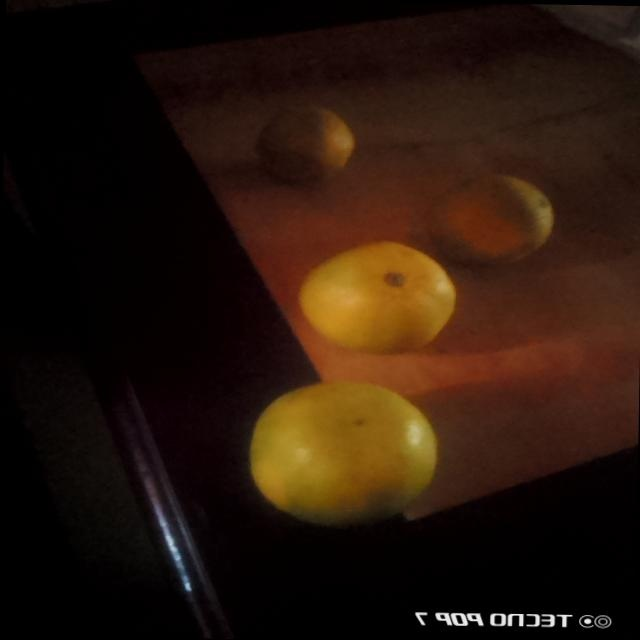agrume: (249, 381, 451, 523), (292, 233, 459, 359), (450, 167, 554, 269), (263, 105, 356, 187)
